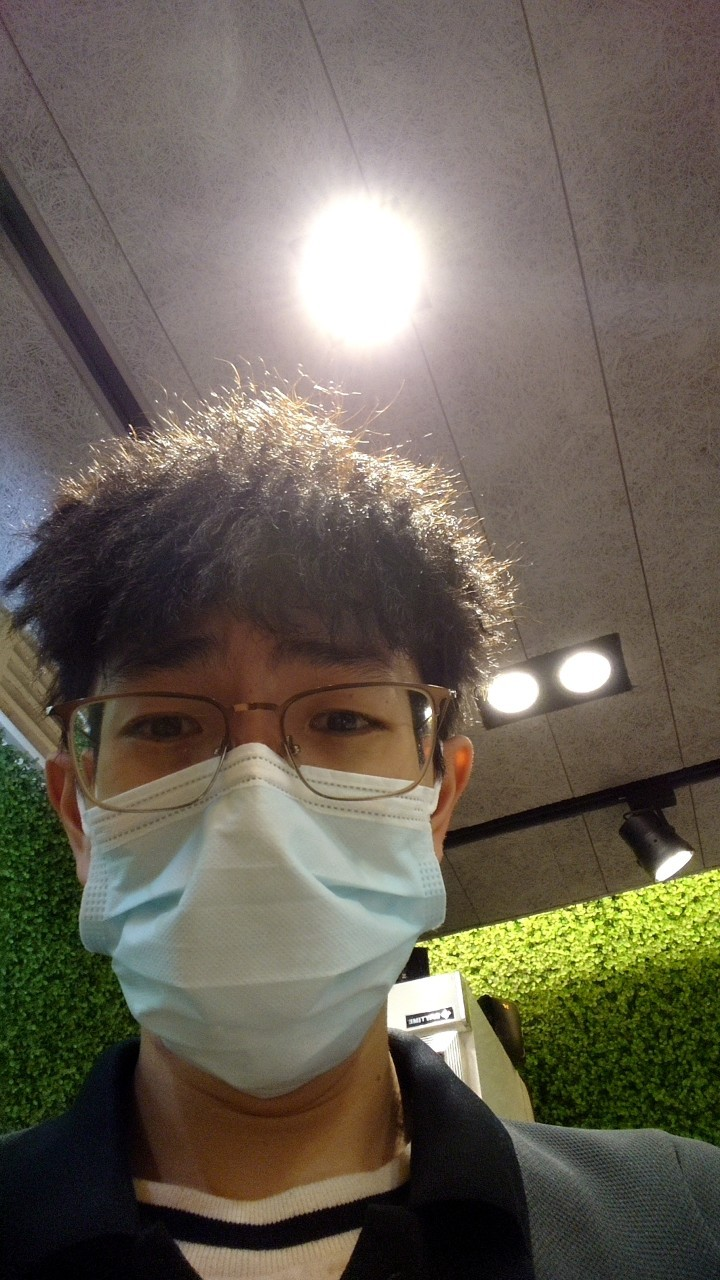people: (3, 414, 720, 1280)
